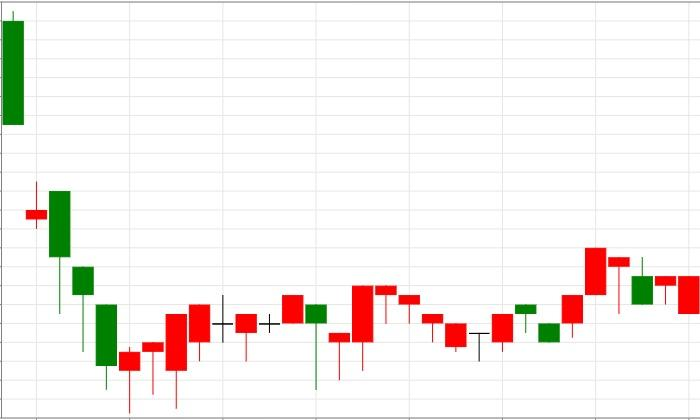hammer_rise: (2, 11, 94, 352)
